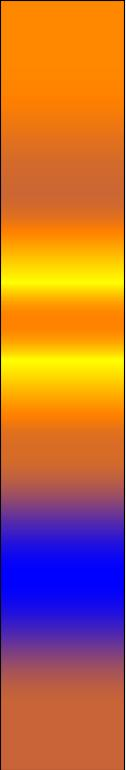Thermal Runaway: (10, 240, 111, 418), (9, 6, 118, 116)
critical: (11, 663, 109, 764), (9, 130, 113, 212), (12, 431, 110, 506)
safe: (14, 515, 111, 648)
